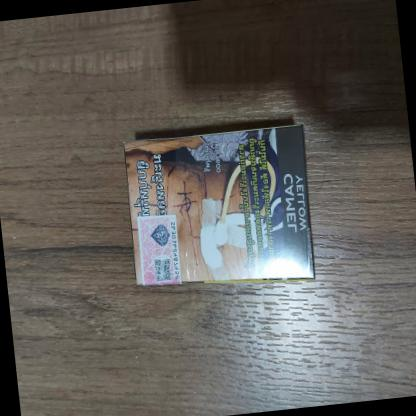box: (117, 112, 324, 302)
